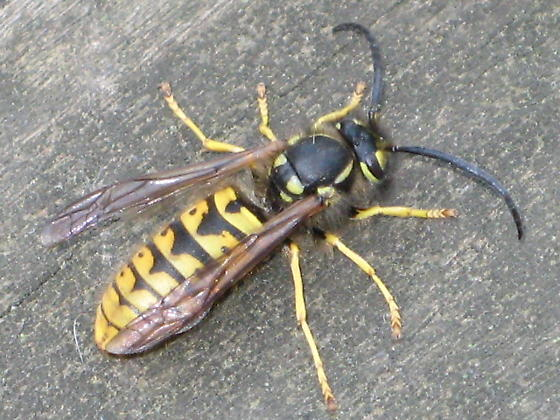chax: (31, 17, 537, 407)
